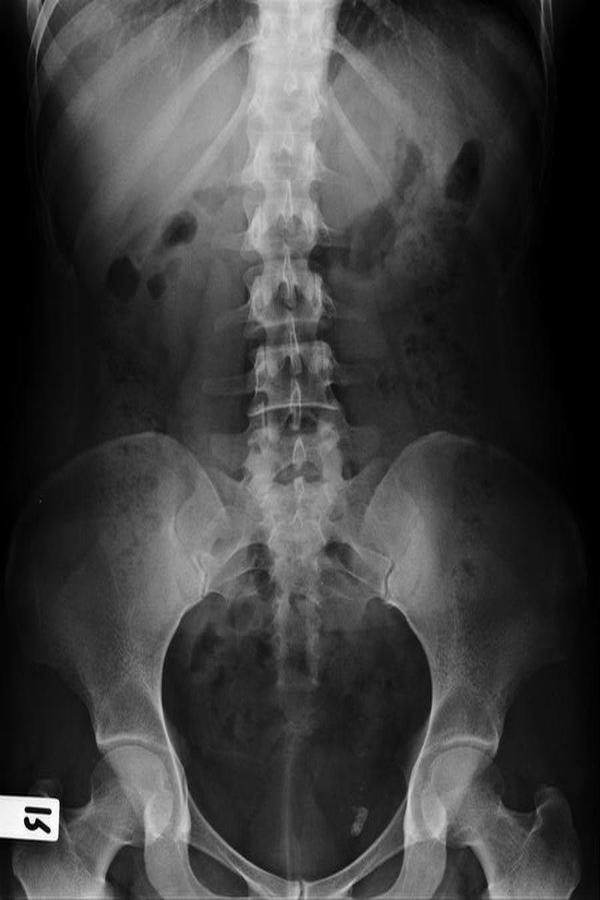lumbar scoliosis: (231, 3, 347, 531)
